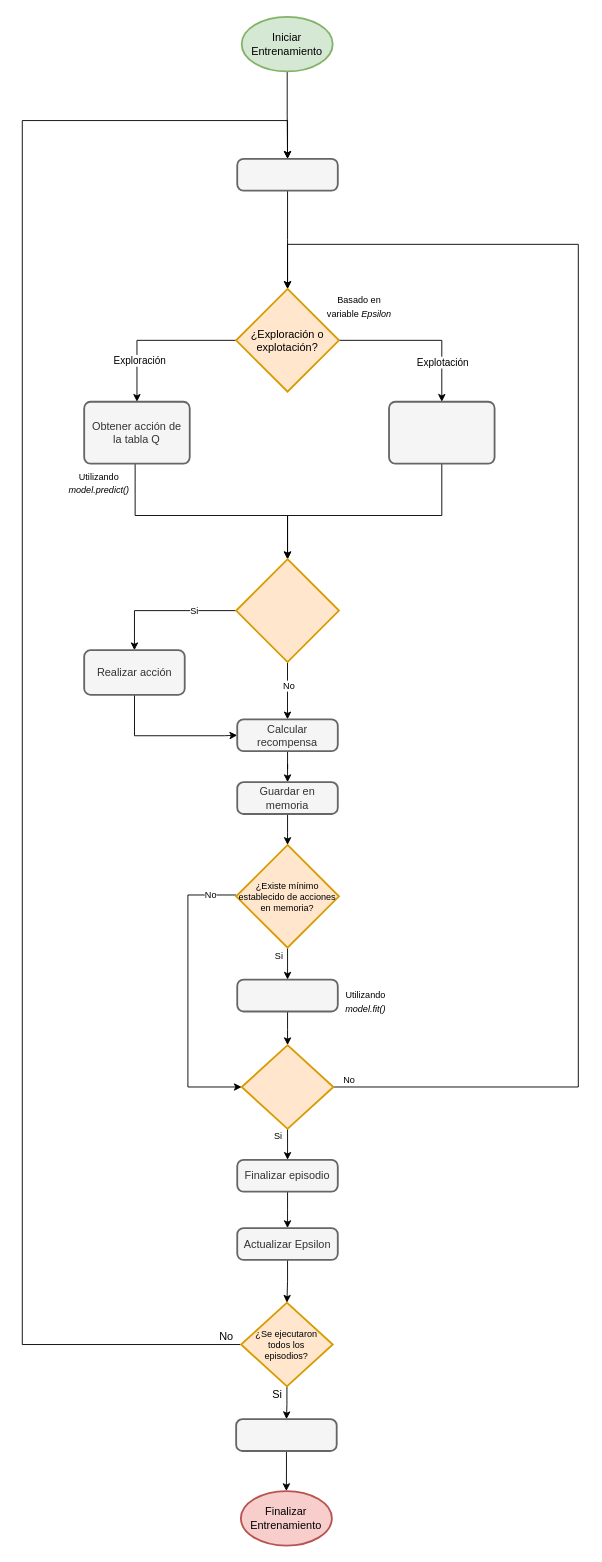
The diagram is 602 pixels wide and 1562 high, and some of its shapes have lost their labels. The centre of each missing label's shape, as x and y in pixels:
Determinar acción aleatoria: [441,432]
Entrenar modelo: [287,995]
Guardar modelo: [286,1434]
Iniciar episodio: [287,174]
¿La acción es permitida?: [287,610]
¿Llegó al objetivo?: [287,1086]
